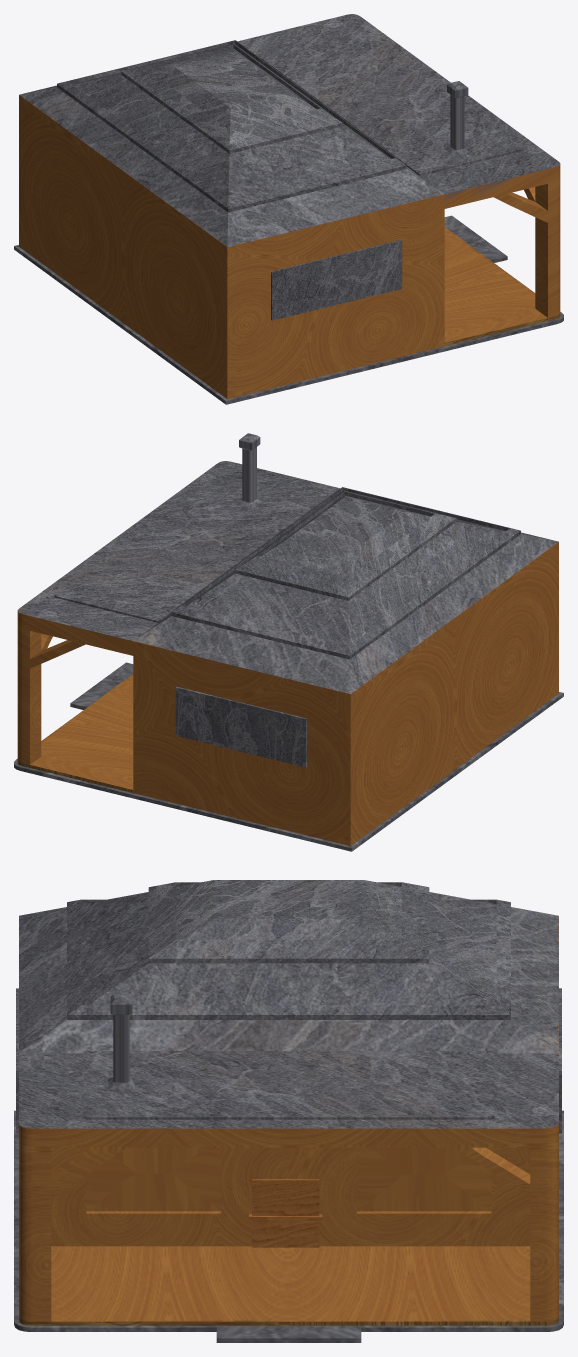
The model's file is Armeria.fbx.
3 views of the same model, one above another, from view 1: azimuth 30°, elevation 25°; view 2: azimuth 150°, elevation 25°; view 3: azimuth 270°, elevation 25° (orthographic). The views are drawn at different scales.
Parts seen in each view (by area): view 1: Armeria; view 2: Armeria; view 3: Armeria.
Part boxes in pixels (x1,y1,x2,y2): Armeria: [14, 14, 563, 404]; Armeria: [14, 433, 563, 851]; Armeria: [14, 880, 563, 1342].
Size of the model in its own units: 20.32 by 12.09 by 20.76.
